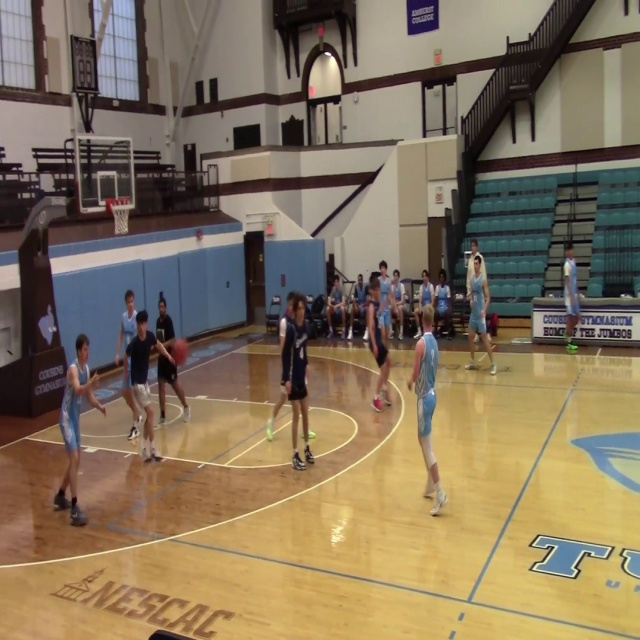Basketball: (168, 338, 188, 366), (307, 430, 316, 440)
